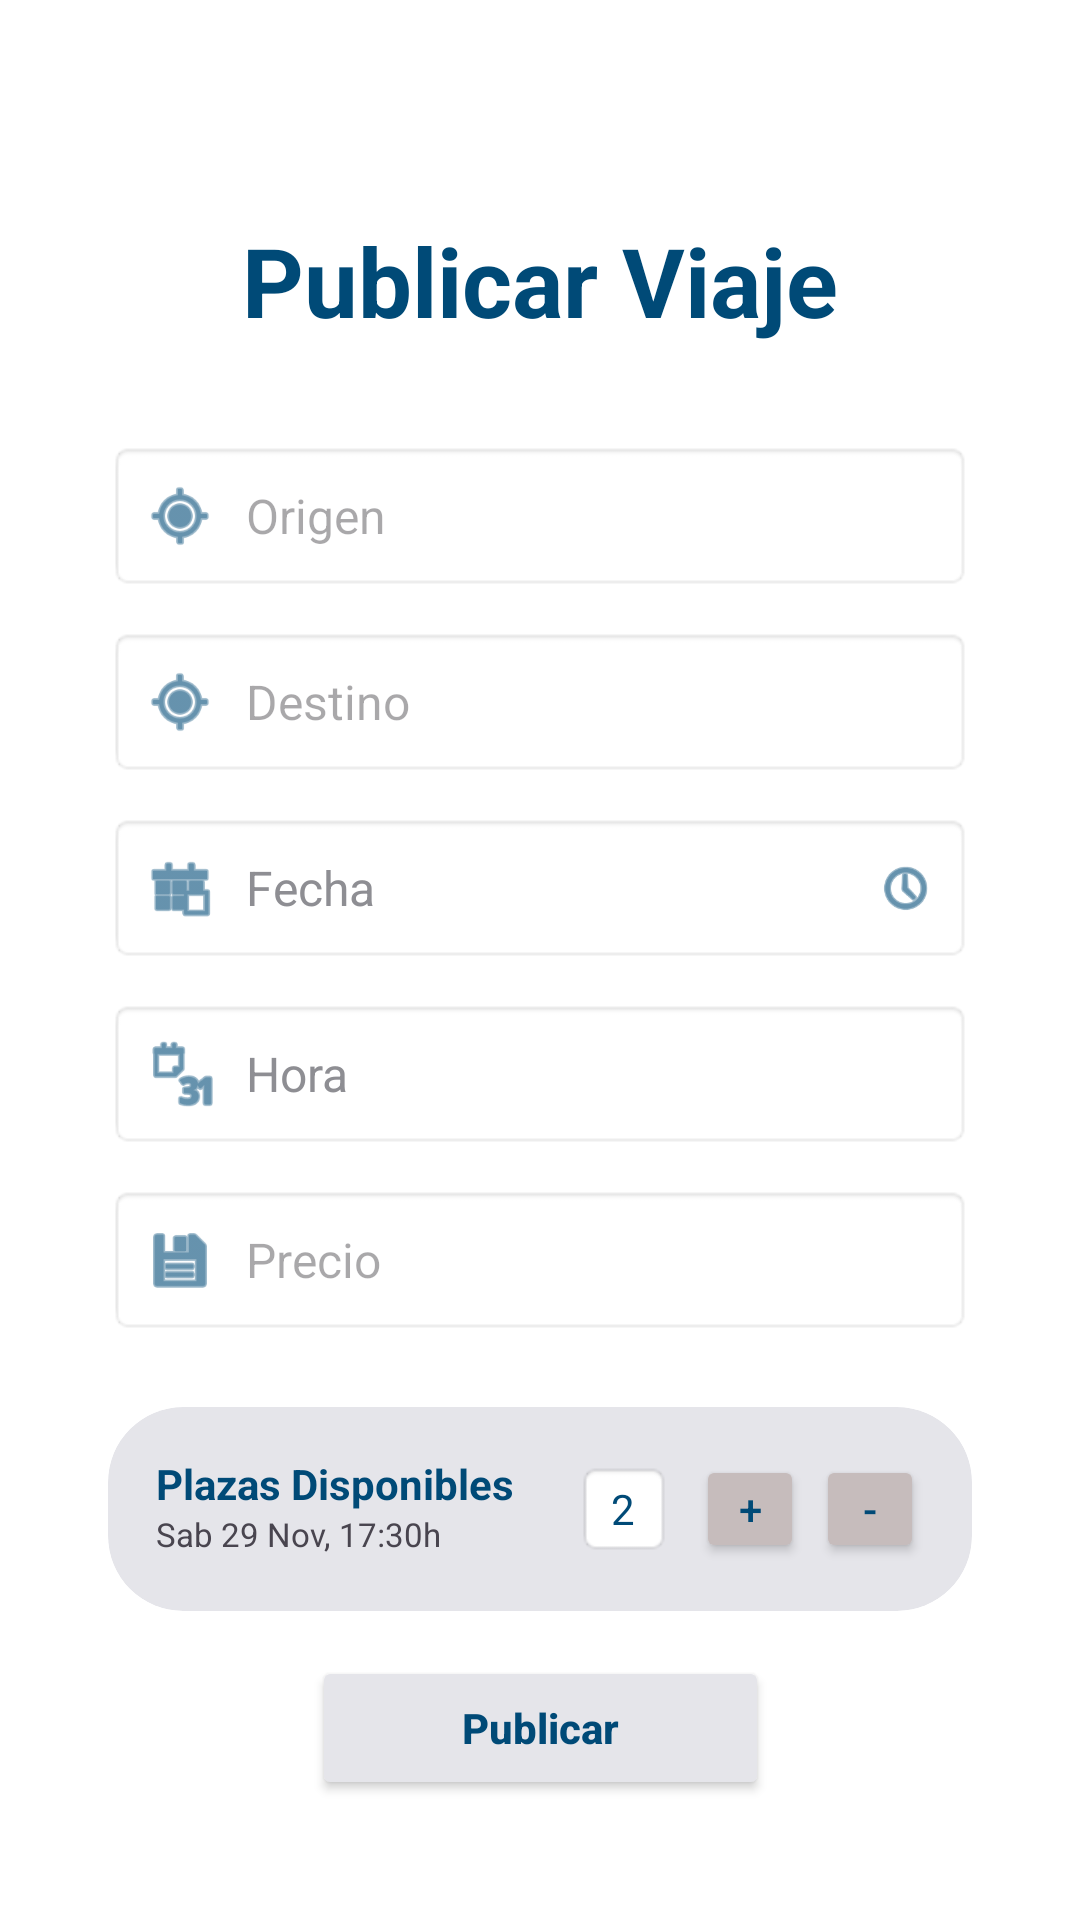

Where icons sit on this 1080x1920 app screen, as (x1, y1, x2, y2):
mylocation: (151, 487, 209, 545), (151, 673, 209, 731)
recent history: (884, 867, 927, 910)
save: (153, 1233, 207, 1288)
